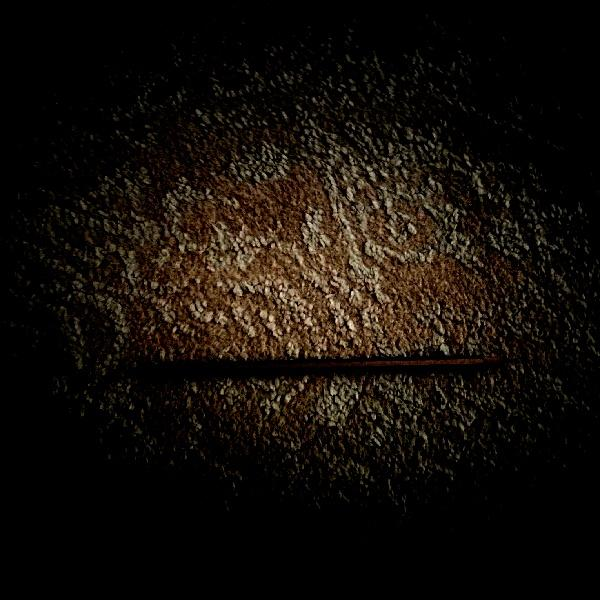pencil: (119, 353, 522, 382)
